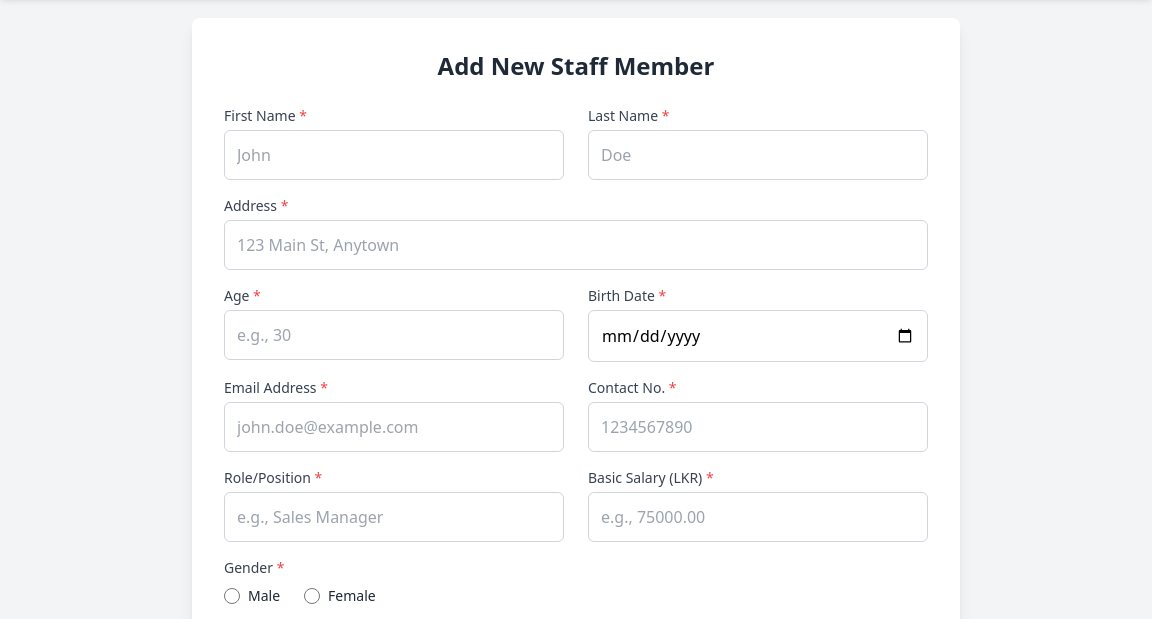
Test: Staff Page - Add Staff Form › should display validation error for age less than 18
Type "17" into the number field named "age" at (394, 335), box left=224, top=310, right=564, bottom=360
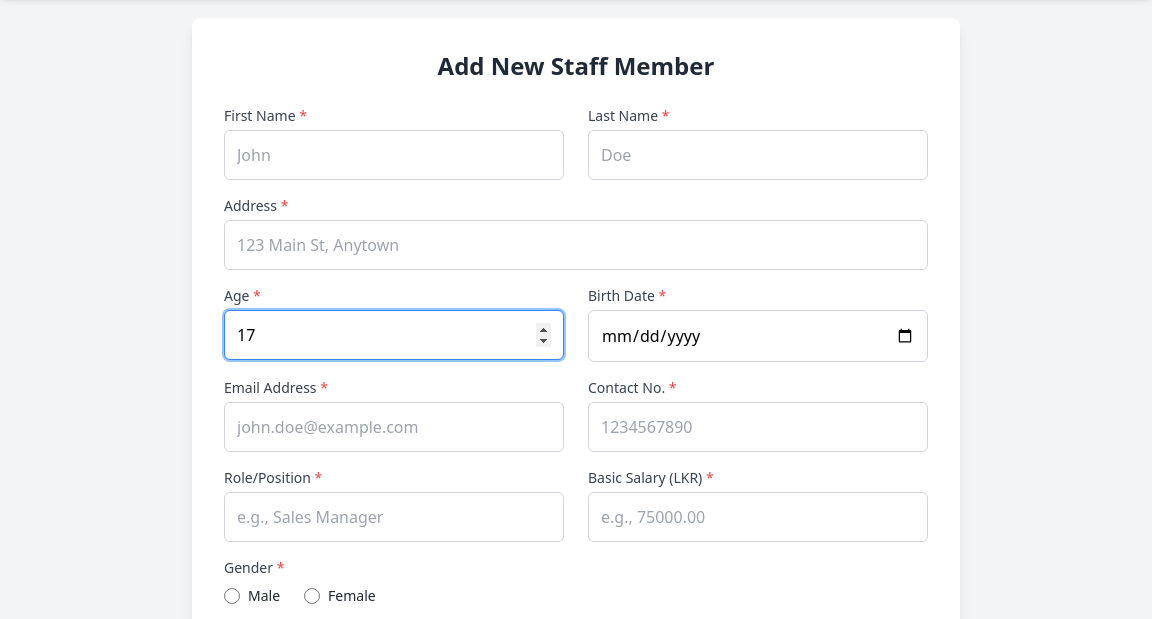
Scroll
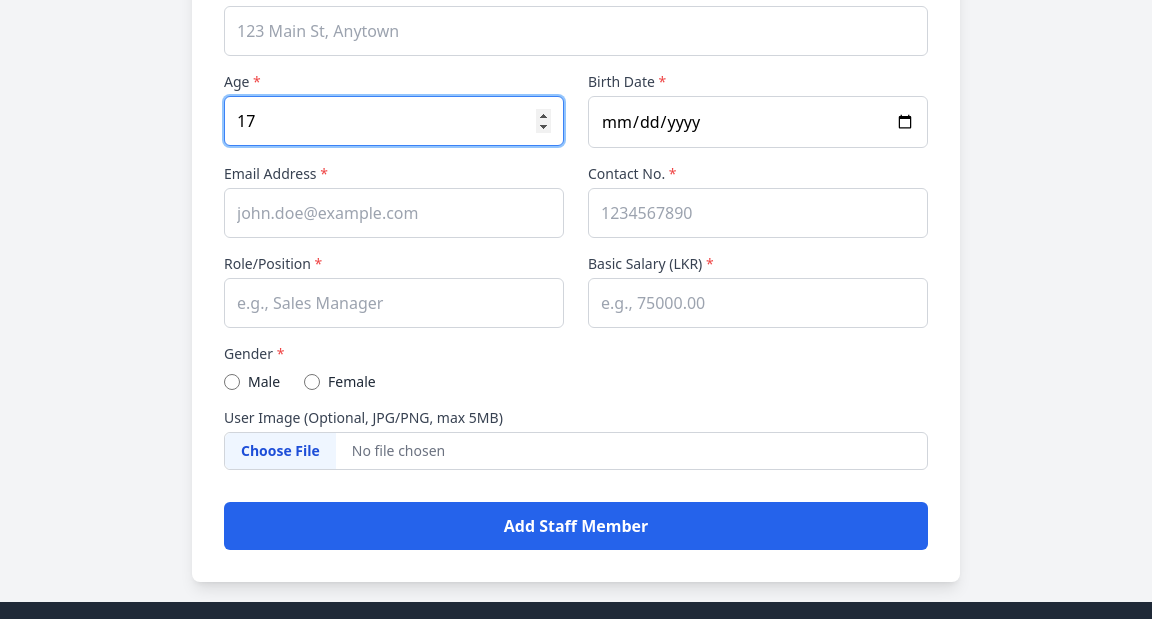
Click the submit button at (576, 526), box left=224, top=502, right=928, bottom=550
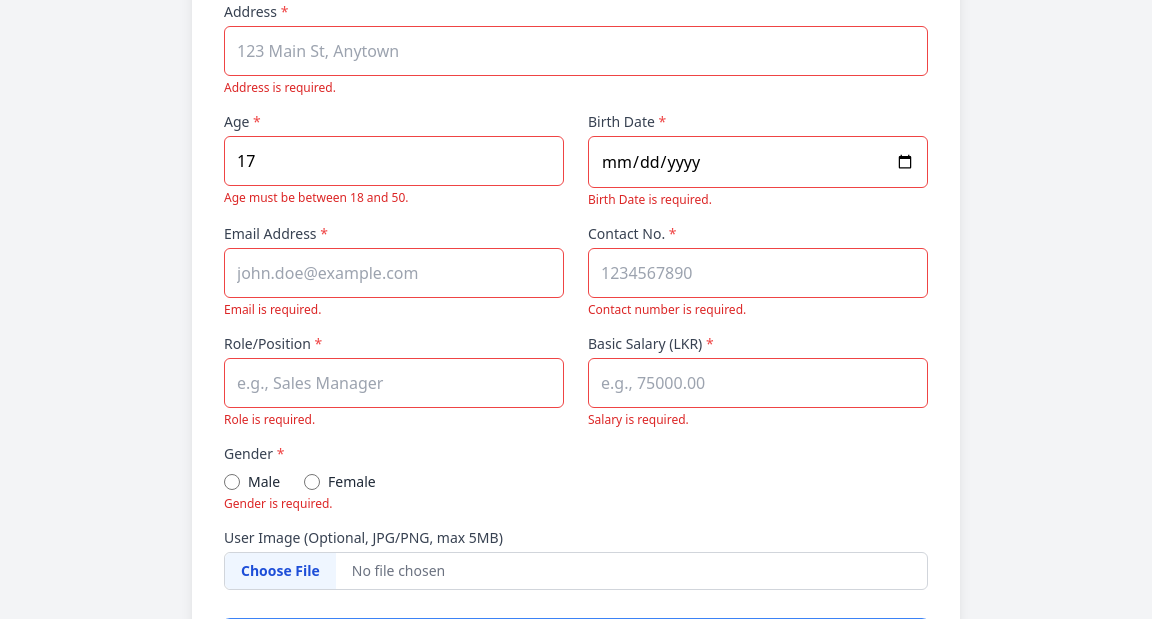
Now the text "Age must be between 18 and 50." is shown, box left=224, top=189, right=408, bottom=206
